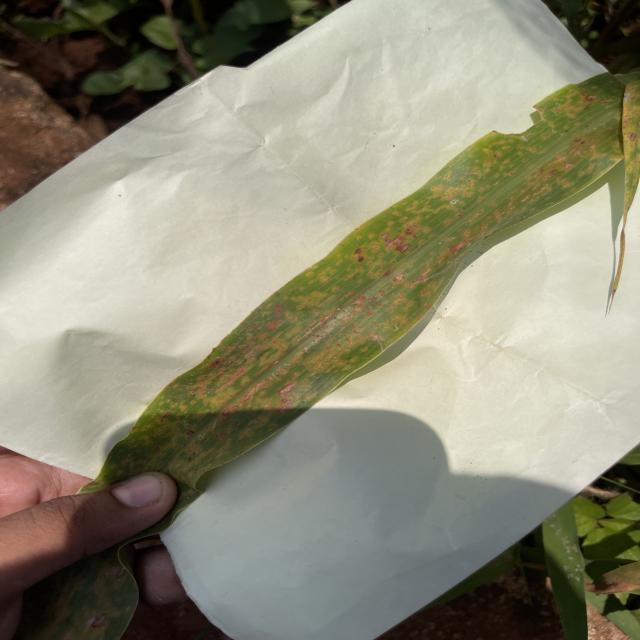millet_rust: (98, 65, 640, 476)
